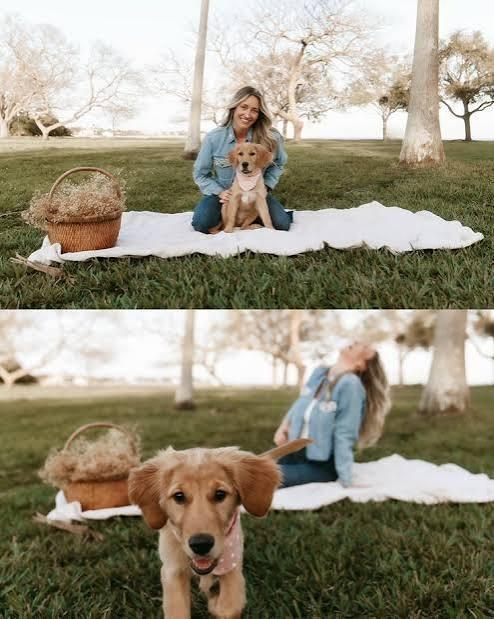non-dog: (268, 343, 395, 494), (190, 87, 294, 234)
puppy-dog: (131, 439, 312, 619), (209, 140, 276, 234)
